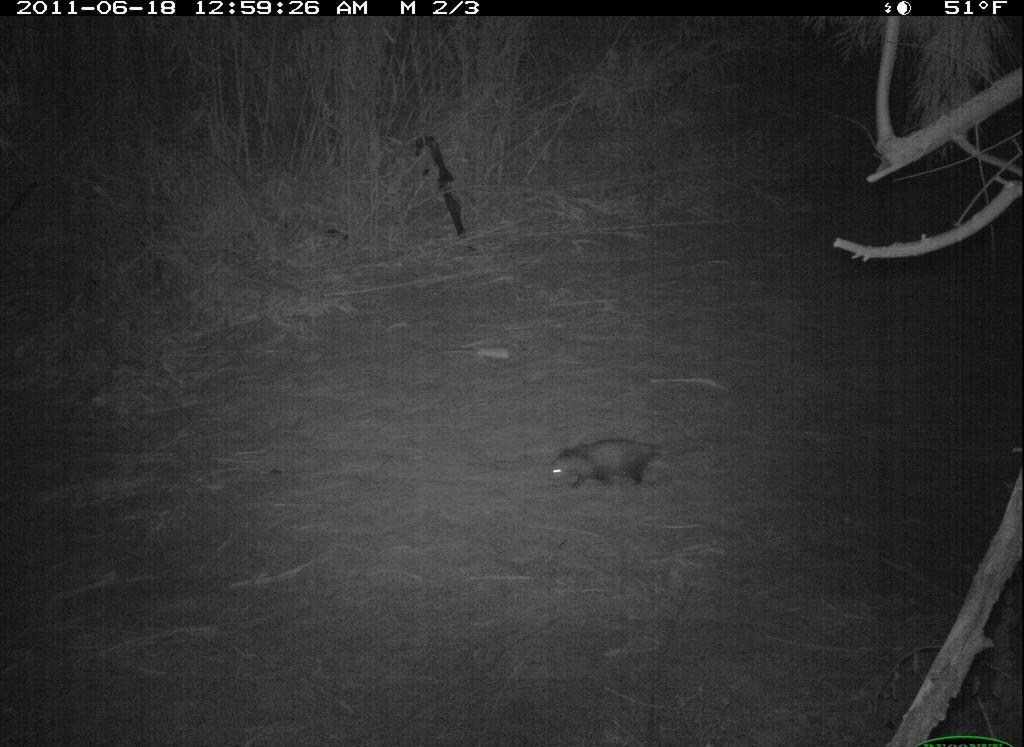opossum: (536, 431, 675, 496)
